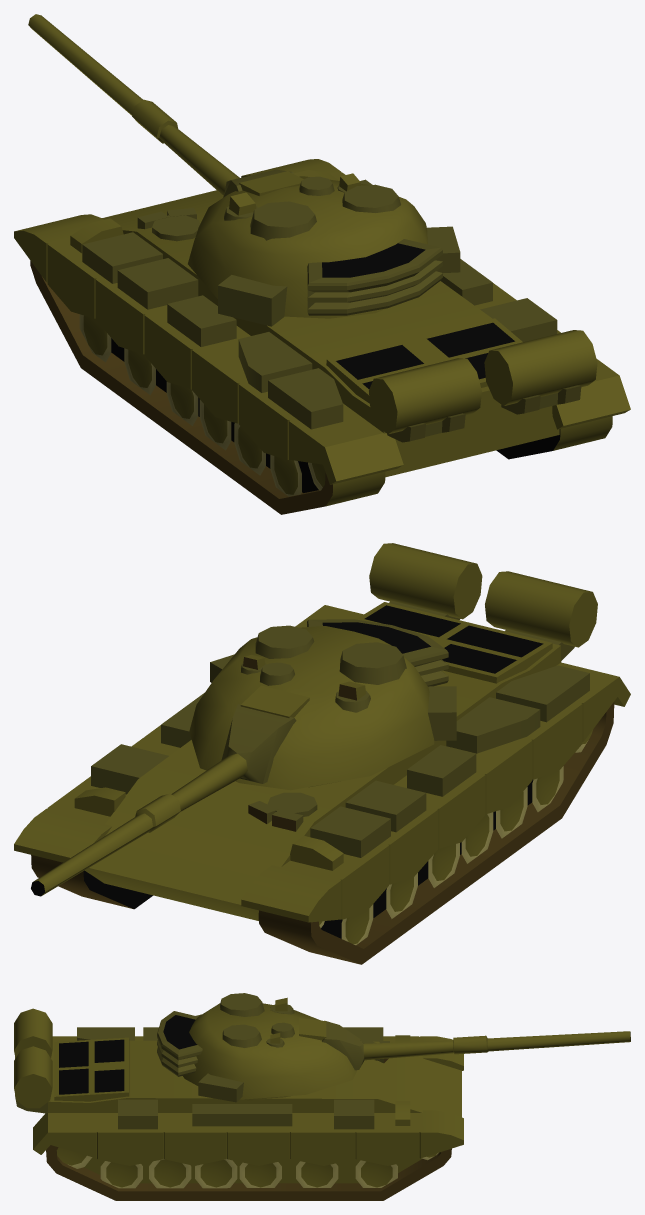
File: type80.glb
3 renders of one model, top to bottom at view 1: azimuth 30°, elevation 25°; view 2: azimuth 150°, elevation 25°; view 3: azimuth 270°, elevation 25°, orthographic. The views are drawn at different scales.
Parts seen in each view (by area): view 1: hull.002, type_80_hull.002, barrel; view 2: hull.002, type_80_hull.002, barrel; view 3: hull.002, type_80_hull.002, barrel.
Part boxes in pixels (<box>): hull.002: <box>14,159,630,514</box>; type_80_hull.002: <box>188,171,460,326</box>; barrel: <box>28,14,293,197</box>; hull.002: <box>14,543,630,964</box>; type_80_hull.002: <box>189,619,456,790</box>; barrel: <box>31,704,296,896</box>; hull.002: <box>14,1008,463,1200</box>; type_80_hull.002: <box>157,993,357,1102</box>; barrel: <box>322,1020,630,1070</box>.
Size of the model in its own units: 0.3689 by 0.2491 by 1.
